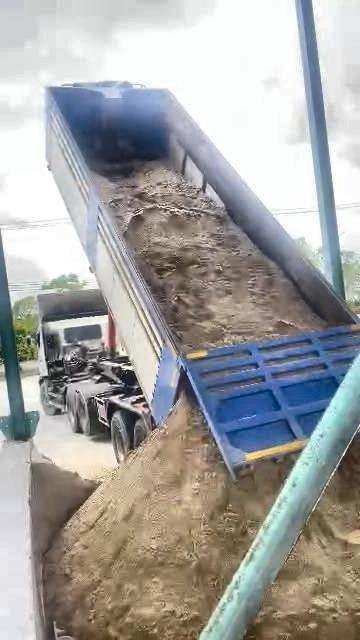sand: (46, 397, 290, 639), (95, 161, 327, 350), (250, 441, 360, 639), (31, 458, 97, 558)
